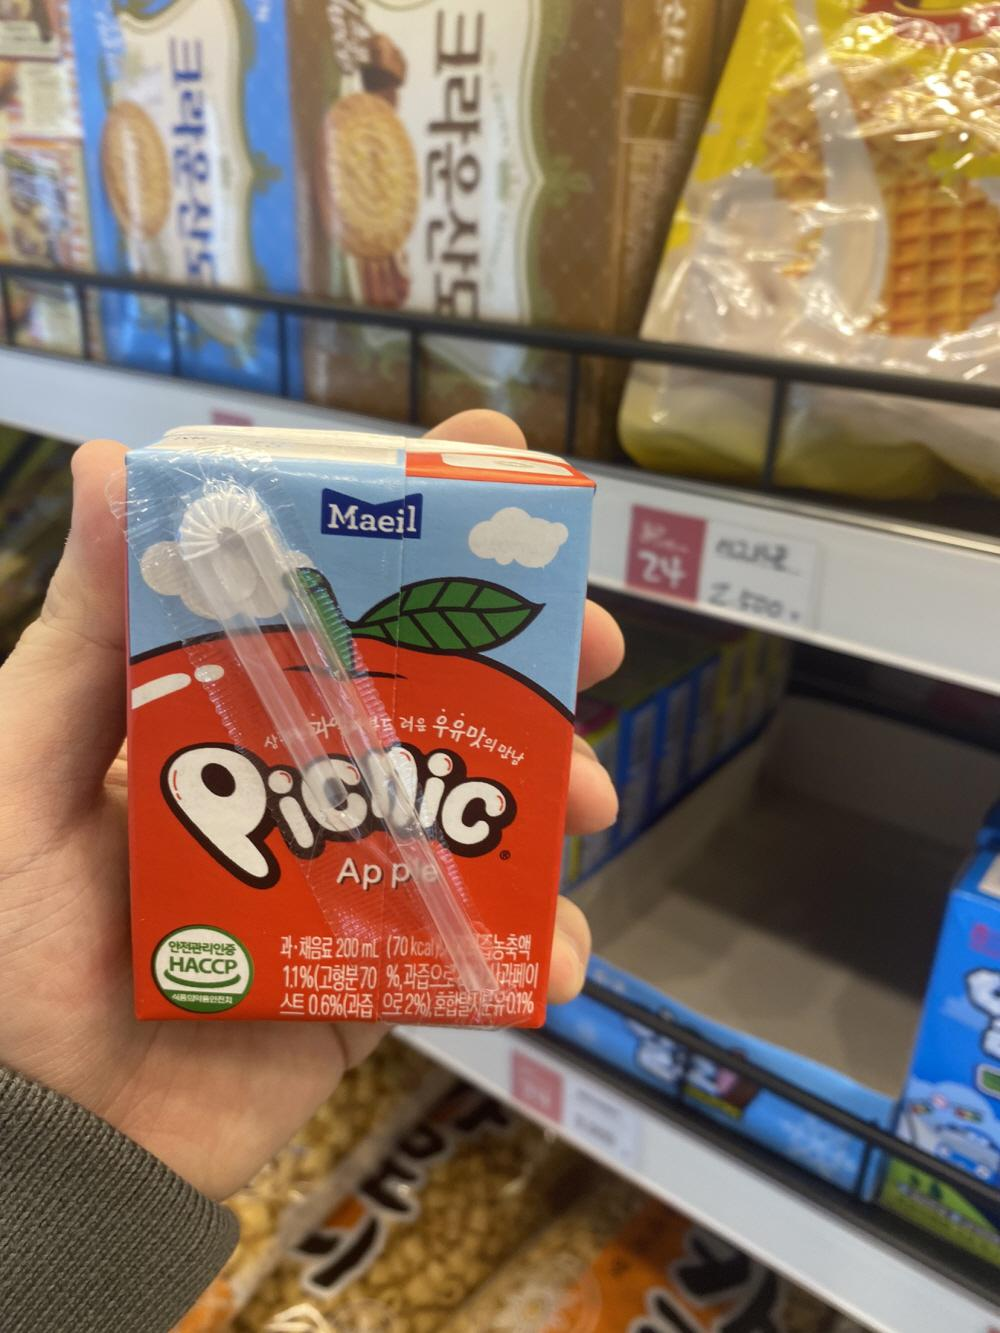picnic_apple: (108, 441, 584, 1041)
